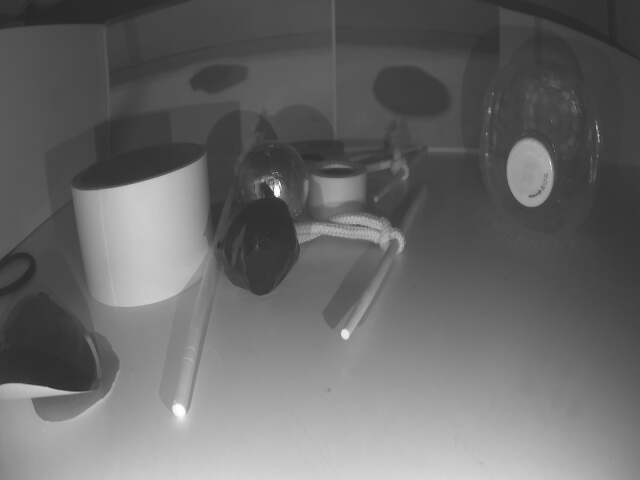Dead: (226, 202, 299, 291)
Live: (240, 143, 307, 218)
